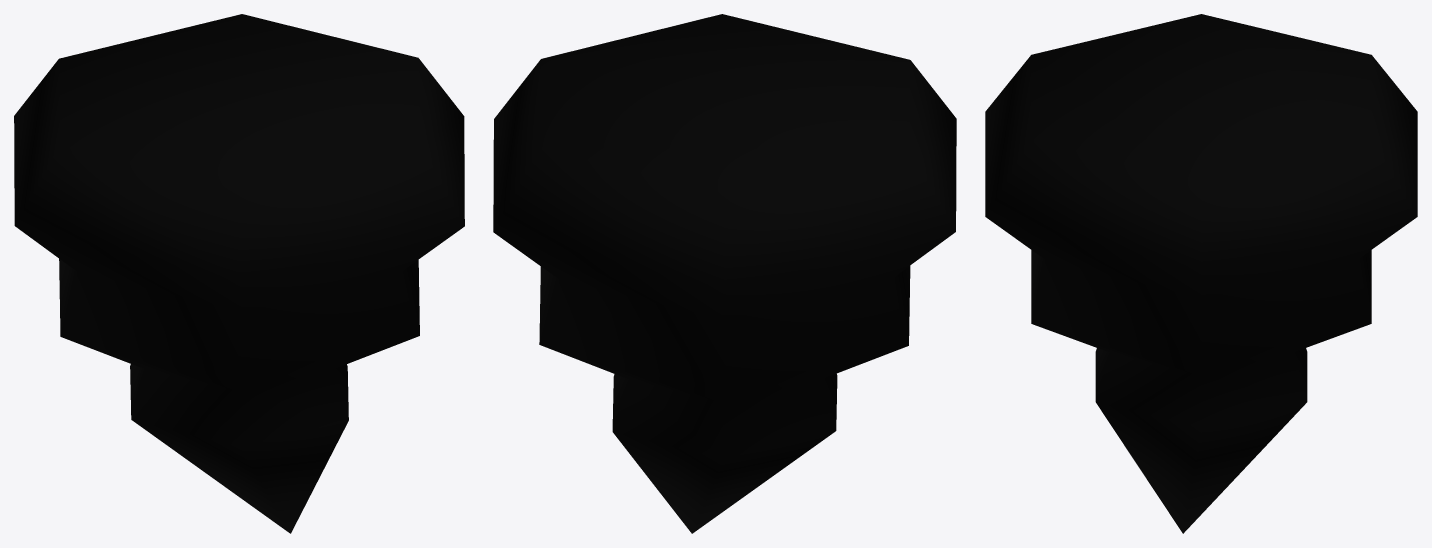
File: 107_efe.gltf
3 renders of one model, left to right at view 1: azimuth 30°, elevation 25°; view 2: azimuth 150°, elevation 25°; view 3: azimuth 270°, elevation 25°, orthographic. The views are drawn at different scales.
Size of the model in its own units: 108 by 100 by 94.
Materials: 1 (1 with a texture image).
